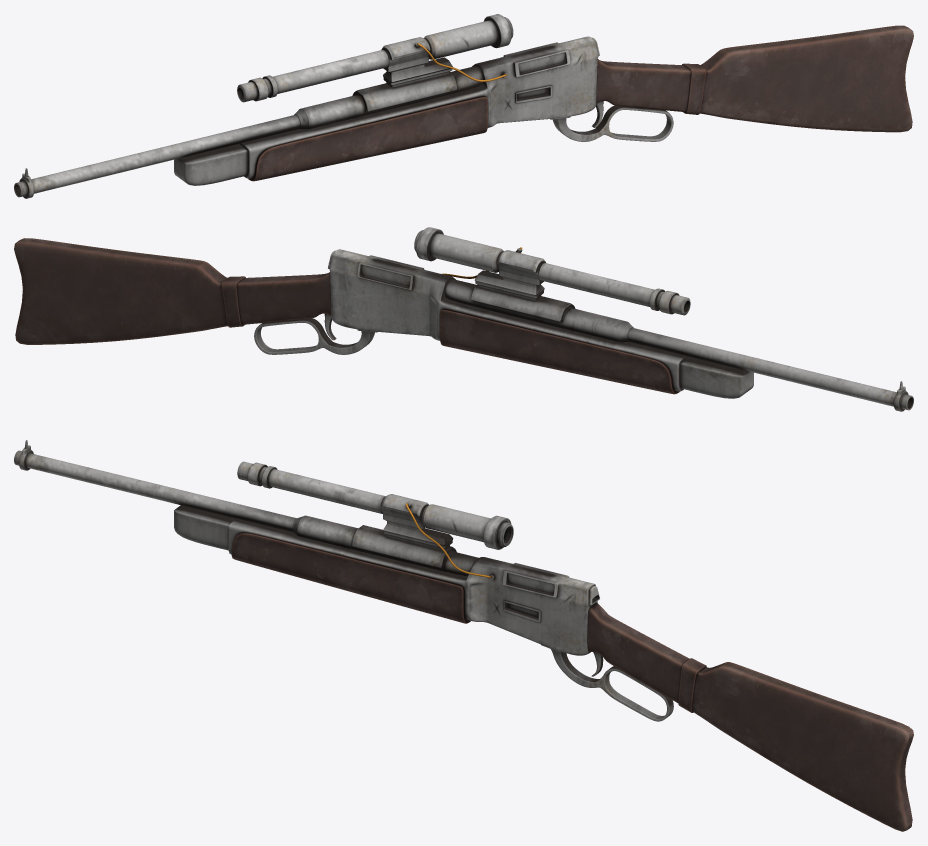
The model's file is western_rifle_winchester_inspired.glb.
The picture shows the model from 3 angles, top to bottom: view 1: azimuth 30°, elevation 25°; view 2: azimuth 150°, elevation 25°; view 3: azimuth 330°, elevation 25°; orthographic projection.
Parts seen in each view (by area): view 1: pr_Baked; view 2: pr_Baked; view 3: pr_Baked.
Part boxes in pixels (x1,y1,x2,y2): pr_Baked: (14, 14, 913, 198); pr_Baked: (14, 227, 913, 411); pr_Baked: (14, 440, 913, 831).
Size of the model in its own units: 1.23 by 0.2785 by 0.0606.
1 material, 1 textured.
